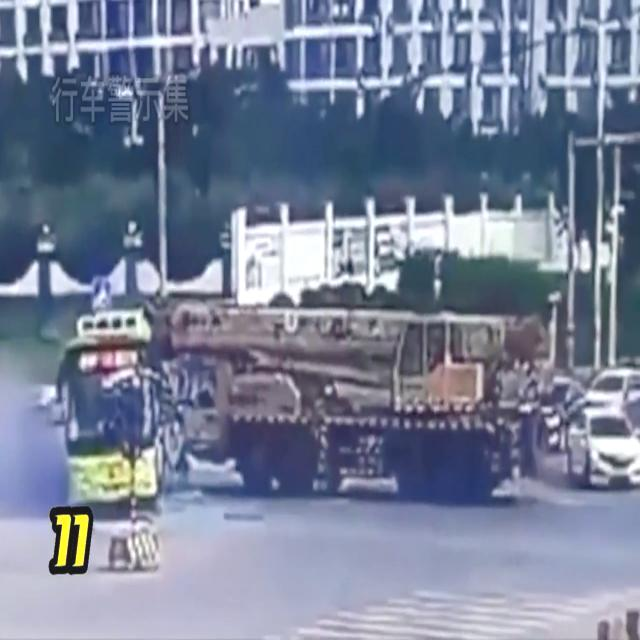accident: (35, 290, 545, 520)
non-accident: (540, 365, 640, 487)
